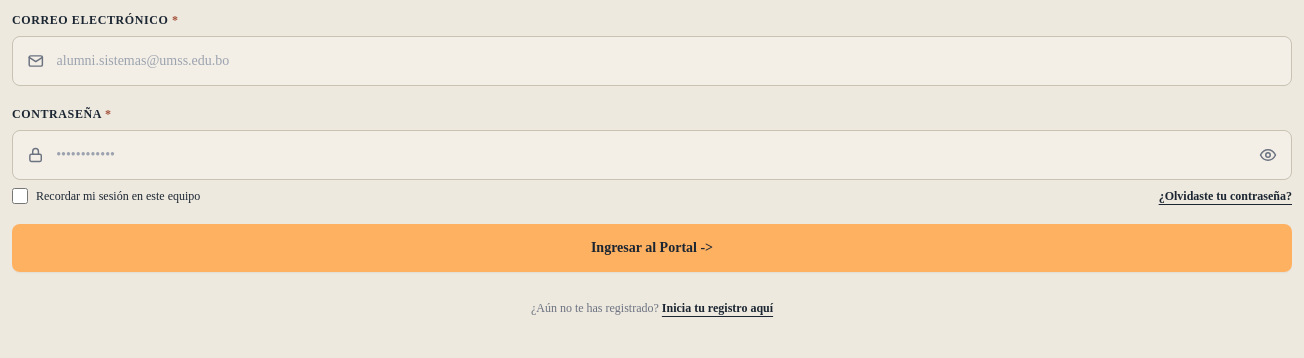
it: LoginForm › rechaza un correo con formato inválido
The image size is (1304, 358).
Type "abc" into the field labelled "Correo electrónico *".
click(667, 61); type("abc")  # box [57,37,1277,85]
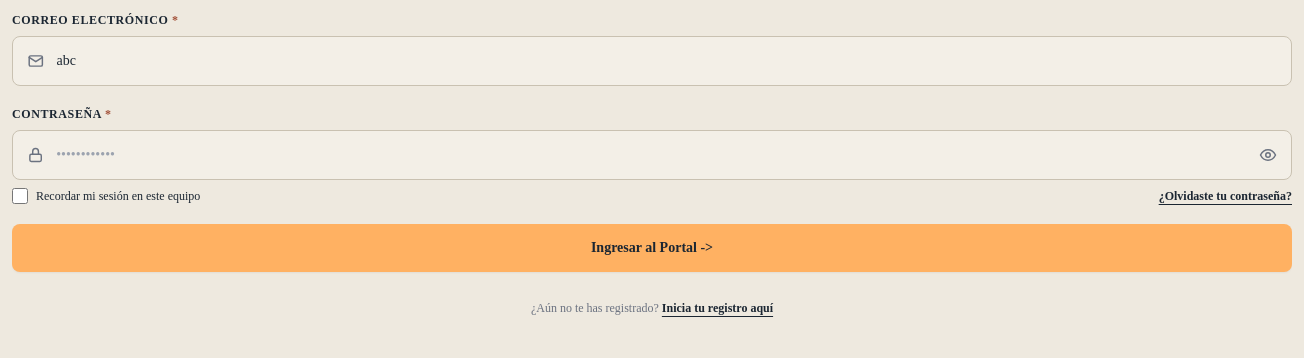
Type "admin1234" into the password field labelled "Contraseña *".
click(652, 155); type("admin1234")  # box [56,131,1247,179]
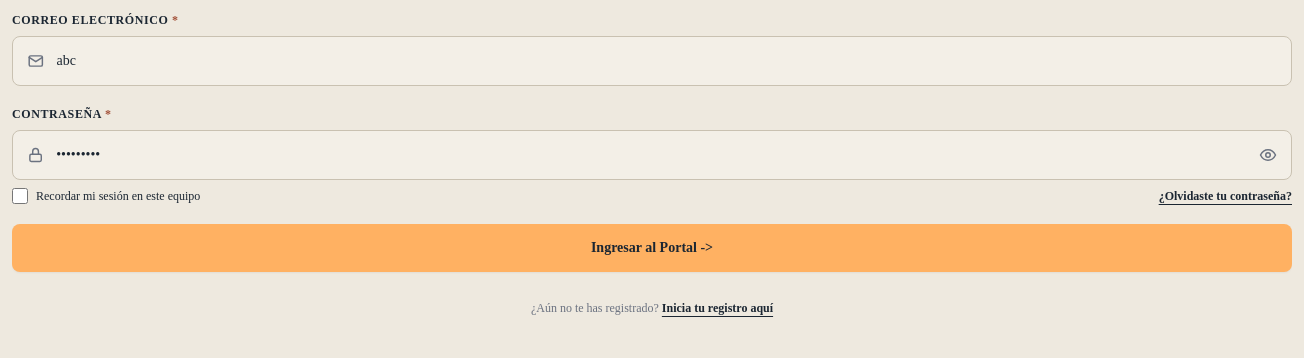
Click the button "Ingresar al Portal ->".
click(652, 248)  # box [12,224,1292,272]
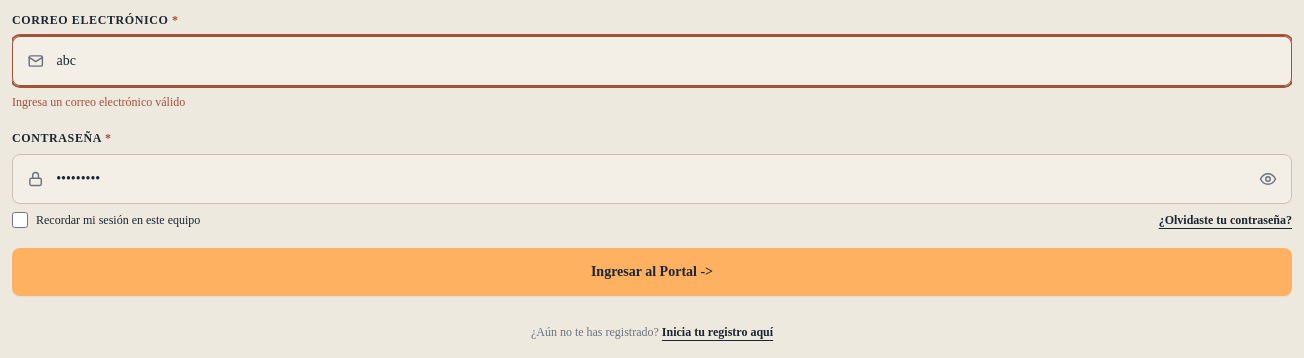
Now the text "Ingresa un correo electrónico válido" is shown, box [12,95,185,109]
